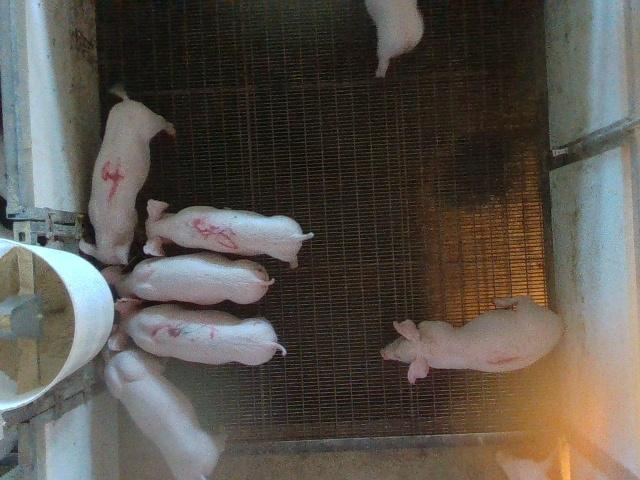pig-1: (380, 296, 564, 383)
pig-3: (109, 299, 286, 365)
pig-4: (80, 90, 175, 264)
pig-5: (146, 202, 314, 268)
